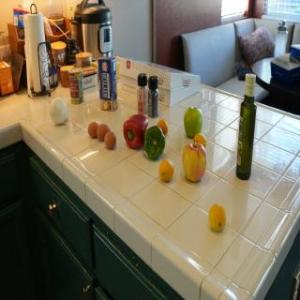bell_pepper: (123, 112, 149, 148), (143, 126, 165, 160)
egg: (96, 124, 110, 140), (104, 132, 116, 148), (86, 122, 98, 138)
onion: (46, 99, 68, 127)
